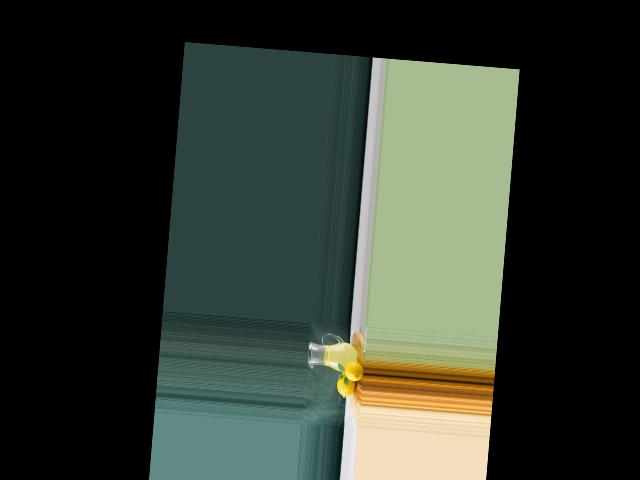lemon: (342, 359, 363, 385)
